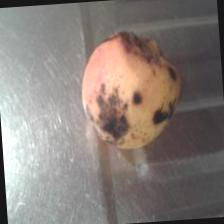Mango Overripe: (75, 24, 185, 154)
